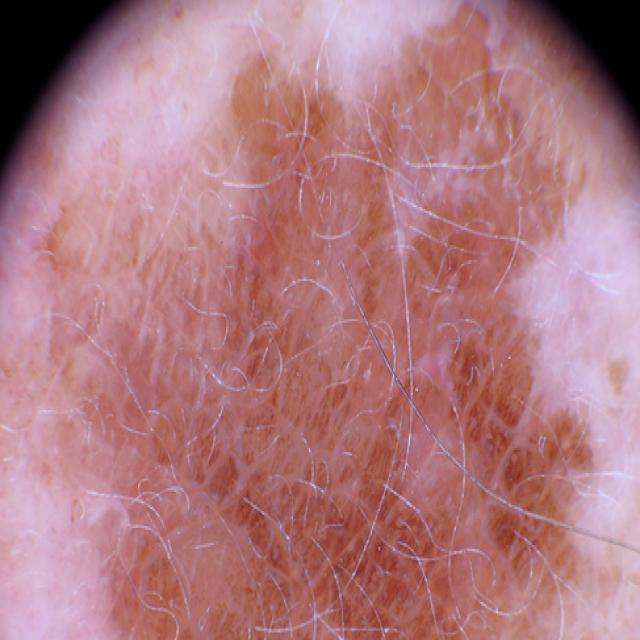Keratosis: (69, 70, 584, 640)
